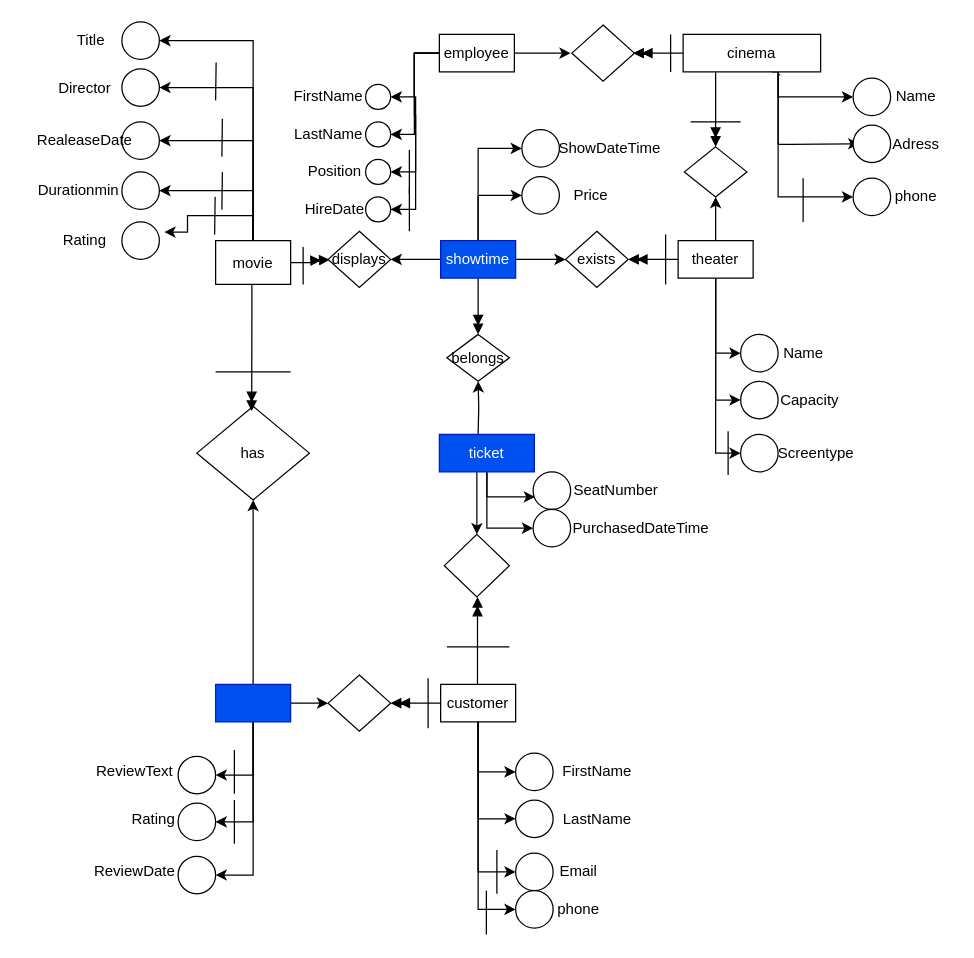
The diagram is 974 pixels wide and 958 high, and some of its shapes have lost their labels. The box of each missing label's shape, as (x1, y1, x2, y2) in pixels:
buys: (443, 533, 509, 597)
contains: (683, 146, 747, 197)
leaves: (327, 674, 391, 731)
review: (214, 683, 291, 722)
works: (571, 24, 634, 81)
